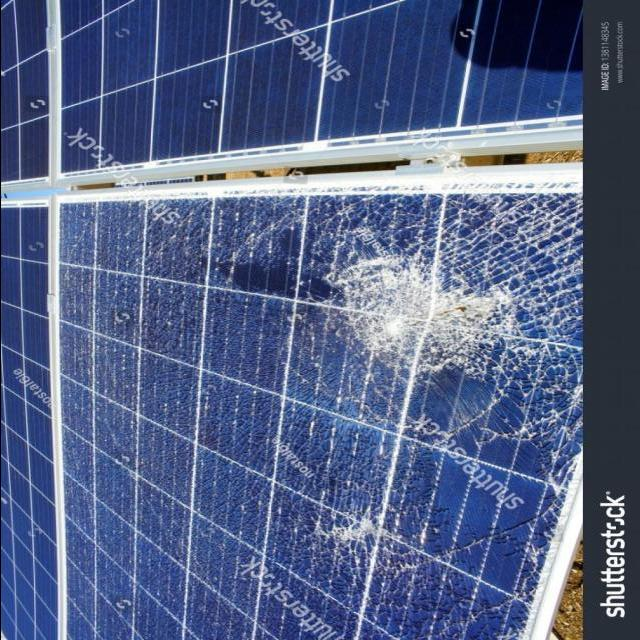cracked: (59, 166, 582, 640)
